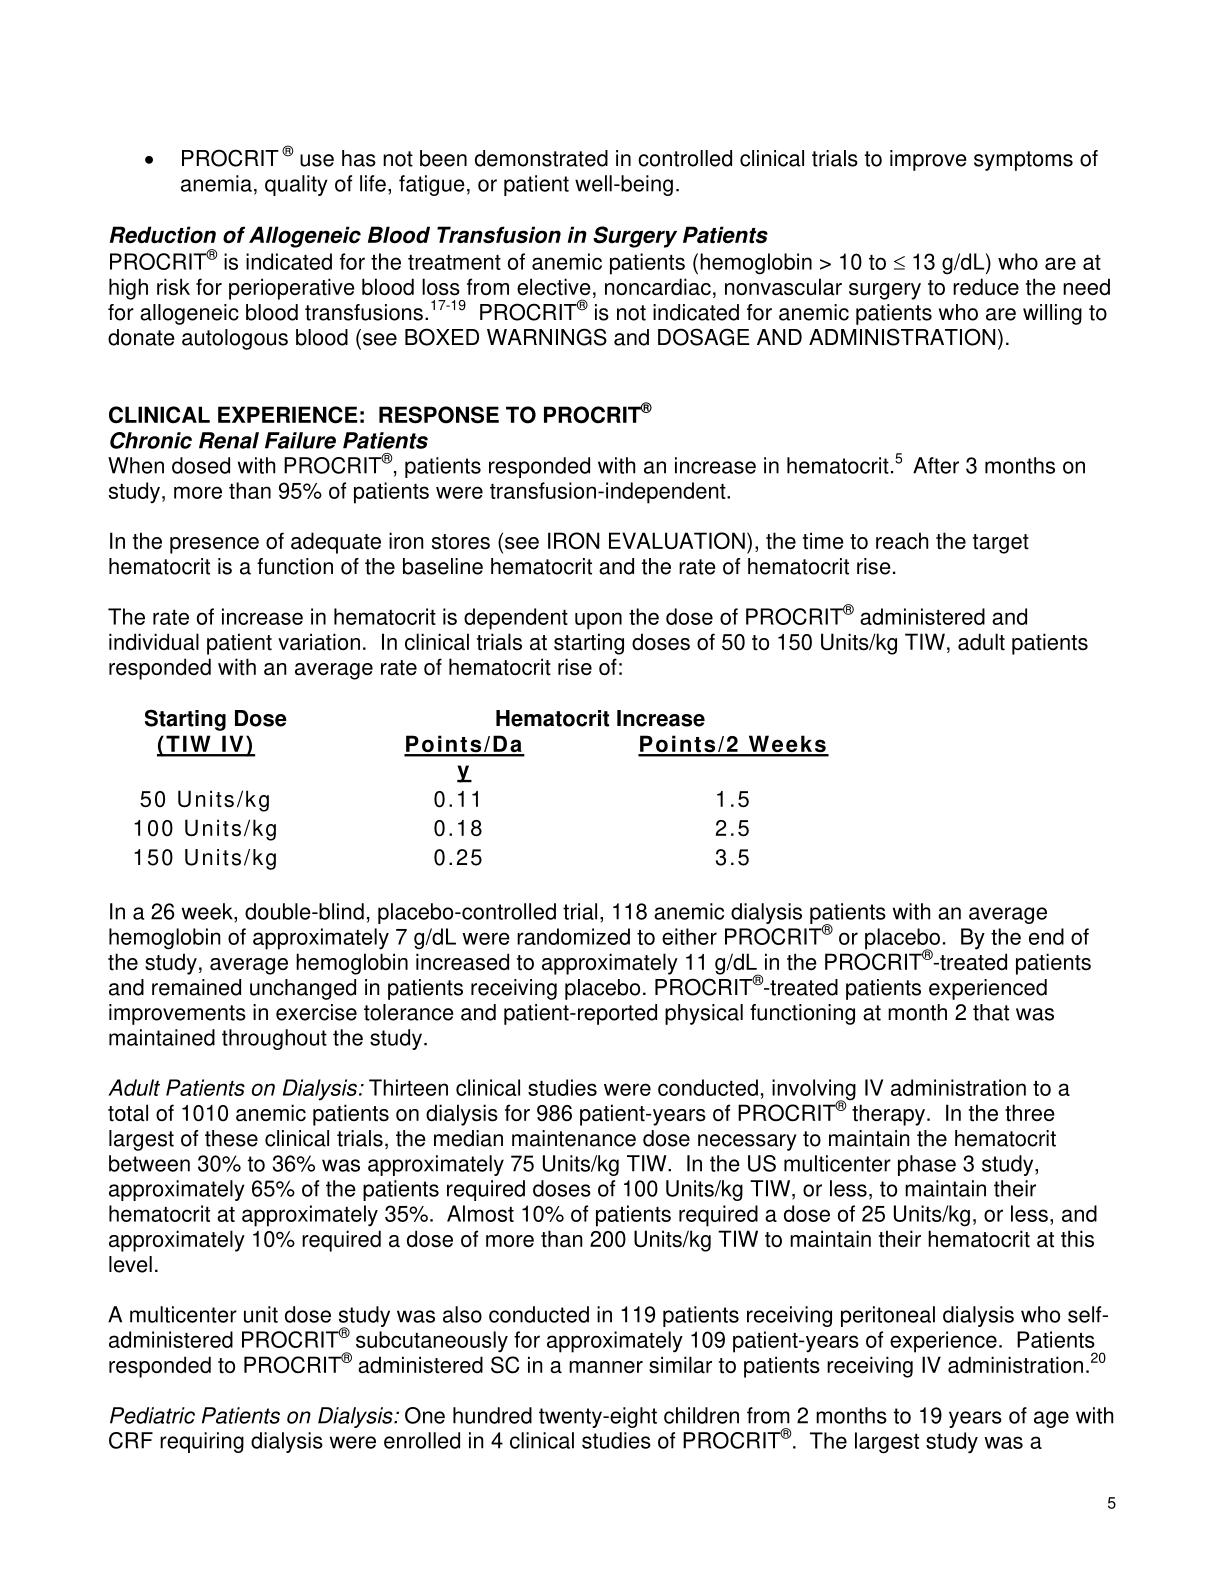nolines: (134, 706, 831, 868)
